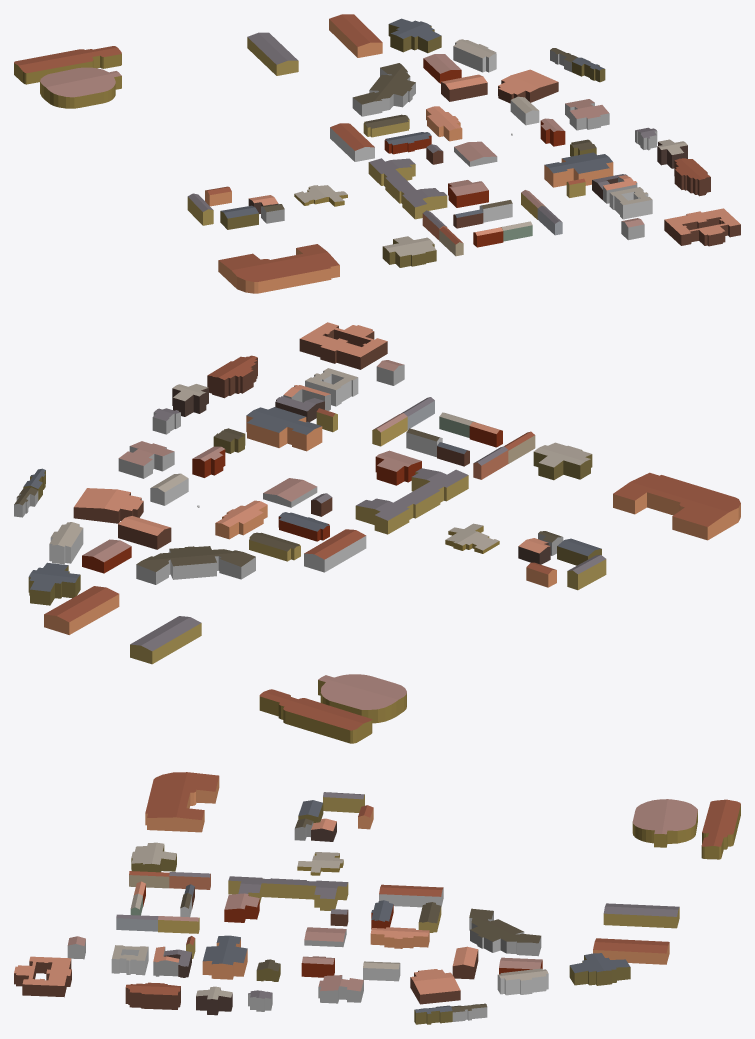
The model's file is CoE03_buildiings.fbx.
3 views of the same model, one above another, from view 1: azimuth 30°, elevation 25°; view 2: azimuth 150°, elevation 25°; view 3: azimuth 270°, elevation 25° (orthographic). The views are drawn at different scales.
Visible parts, largest first — view 1: Recreation and Fitness Center, Hooper Eblen Center, Laboratory Sciences Building, Campus Recreation and Fitness Center, Bell Hall, Volpe Library and Media Center, Memorial Gym, Tucker Stadium (East), Bryan Fine Arts, Roaden University Center, Tucker Stadium (West), Ray Morris Hall (Millard Oakley STEM Center) (+23 smaller); view 2: Recreation and Fitness Center, Laboratory Sciences Building, Volpe Library and Media Center, Campus Recreation and Fitness Center, Hooper Eblen Center, Bell Hall, Memorial Gym, Tucker Stadium (East), Tucker Stadium (West), Roaden University Center, Ray Morris Hall (Millard Oakley STEM Center), Bryan Fine Arts (+23 smaller); view 3: Recreation and Fitness Center, Hooper Eblen Center, Laboratory Sciences Building, Volpe Library and Media Center, Bell Hall, Campus Recreation and Fitness Center, Tucker Stadium (West), Tucker Stadium (East), Memorial Gym, Bryan Fine Arts, Roaden University Center, Oakley Hall (+29 smaller).
Part boxes in pixels (x1,y1,x2,y2): Recreation and Fitness Center: (218,244,339,293); Hooper Eblen Center: (40,67,121,108); Laboratory Sciences Building: (368,158,447,219); Campus Recreation and Fitness Center: (14,46,121,84); Bell Hall: (664,208,740,246); Volpe Library and Media Center: (352,63,415,116); Memorial Gym: (544,152,613,187); Tucker Stadium (East): (329,14,382,57); Bryan Fine Arts: (388,18,441,53); Roaden University Center: (498,69,558,103); Tucker Stadium (West): (247,32,298,75); Ray Morris Hall (Millard Oakley STEM Center): (382,236,436,267); Recreation and Fitness Center: (613,472,740,540); Laboratory Sciences Building: (355,468,468,534); Volpe Library and Media Center: (136,546,255,584); Campus Recreation and Fitness Center: (259,689,372,743); Hooper Eblen Center: (318,674,406,723); Bell Hall: (299,322,387,369); Memorial Gym: (246,407,322,451); Tucker Stadium (East): (44,586,119,634); Tucker Stadium (West): (130,616,201,664); Roaden University Center: (73,488,143,523); Ray Morris Hall (Millard Oakley STEM Center): (533,442,592,480); Bryan Fine Arts: (28,562,80,605); Recreation and Fitness Center: (145,772,219,832); Hooper Eblen Center: (632,799,697,847); Laboratory Sciences Building: (228,876,348,910); Volpe Library and Media Center: (469,908,541,956); Bell Hall: (14,956,71,997); Campus Recreation and Fitness Center: (701,799,740,859); Tucker Stadium (West): (603,903,679,928); Tucker Stadium (East): (593,938,669,964); Memorial Gym: (202,935,247,979); Bryan Fine Arts: (569,953,630,985); Roaden University Center: (410,969,460,1004); Oakley Hall: (125,982,180,1009).
Size of the model in its own units: 74200 by 3797 by 94099.
